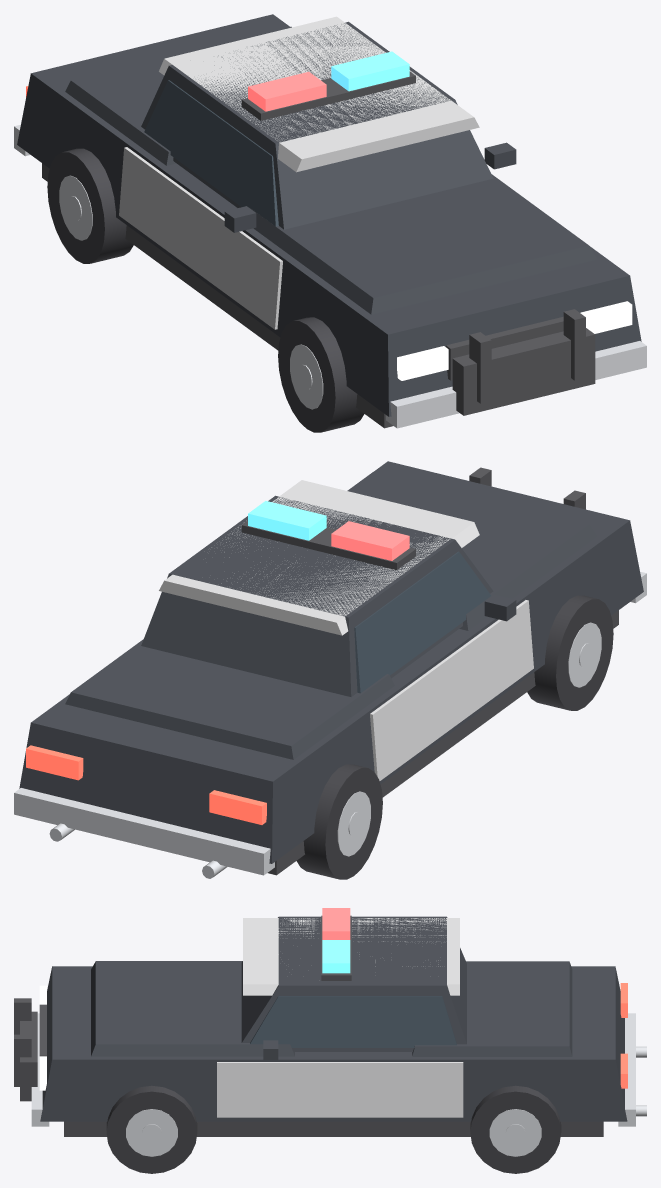
The model's file is car_police.glb.
3 renders of one model, top to bottom at view 1: azimuth 30°, elevation 25°; view 2: azimuth 150°, elevation 25°; view 3: azimuth 270°, elevation 25°, orthographic. The views are drawn at different scales.
Parts seen in each view (by area): view 1: VehicleRoot; view 2: VehicleRoot; view 3: VehicleRoot.
Boxes of the visible parts, box(x1,y1,x2,y2) form: VehicleRoot: box(14, 14, 646, 432); VehicleRoot: box(14, 461, 646, 879); VehicleRoot: box(14, 908, 646, 1173).
Bounding box in the file's own units: 2.04 × 1.62 × 5.02.
